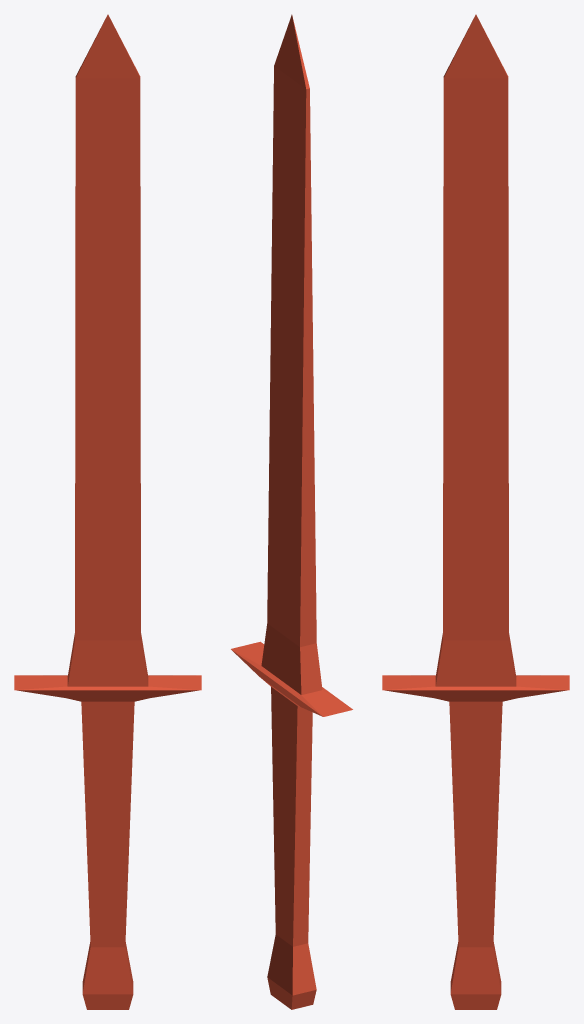
Rendered from Sword.glb.
The picture shows the model from 3 angles, left to right: view 1: azimuth 90°, elevation 25°; view 2: azimuth 210°, elevation 25°; view 3: azimuth 270°, elevation 25°; orthographic projection.
Visible parts, largest first — view 1: Sword; view 2: Sword; view 3: Sword.
Part boxes in pixels (box(x1,y1,x2,y2)): Sword: box(14, 14, 201, 1009); Sword: box(231, 14, 352, 1009); Sword: box(382, 14, 569, 1009).
Size of the model in its own units: 0.0324 by 1.02 by 0.174.
